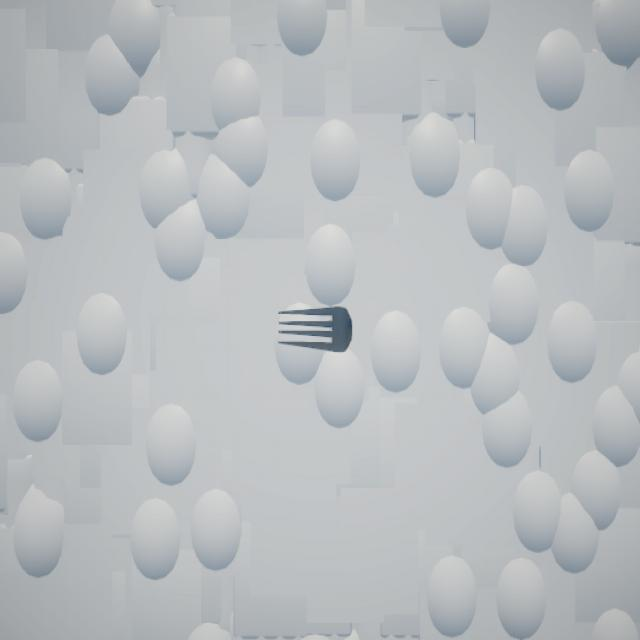top_folk: (279, 307, 354, 353)
